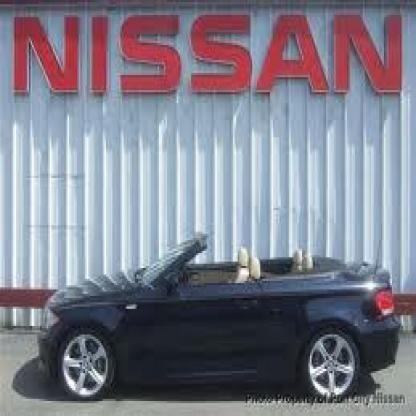Vehicle: (39, 232, 403, 408)
